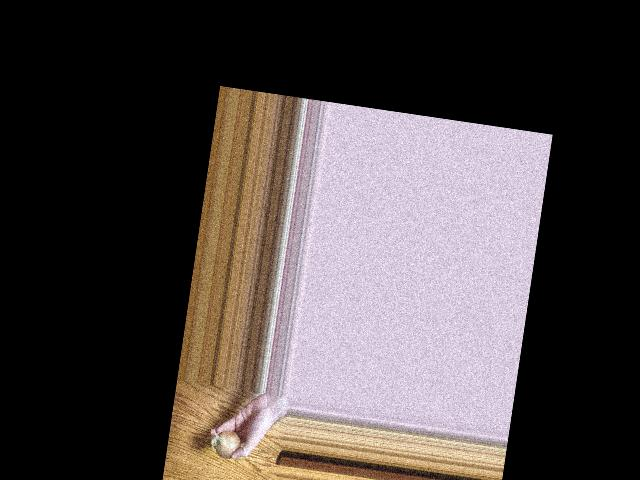onion: (214, 427, 243, 460)
